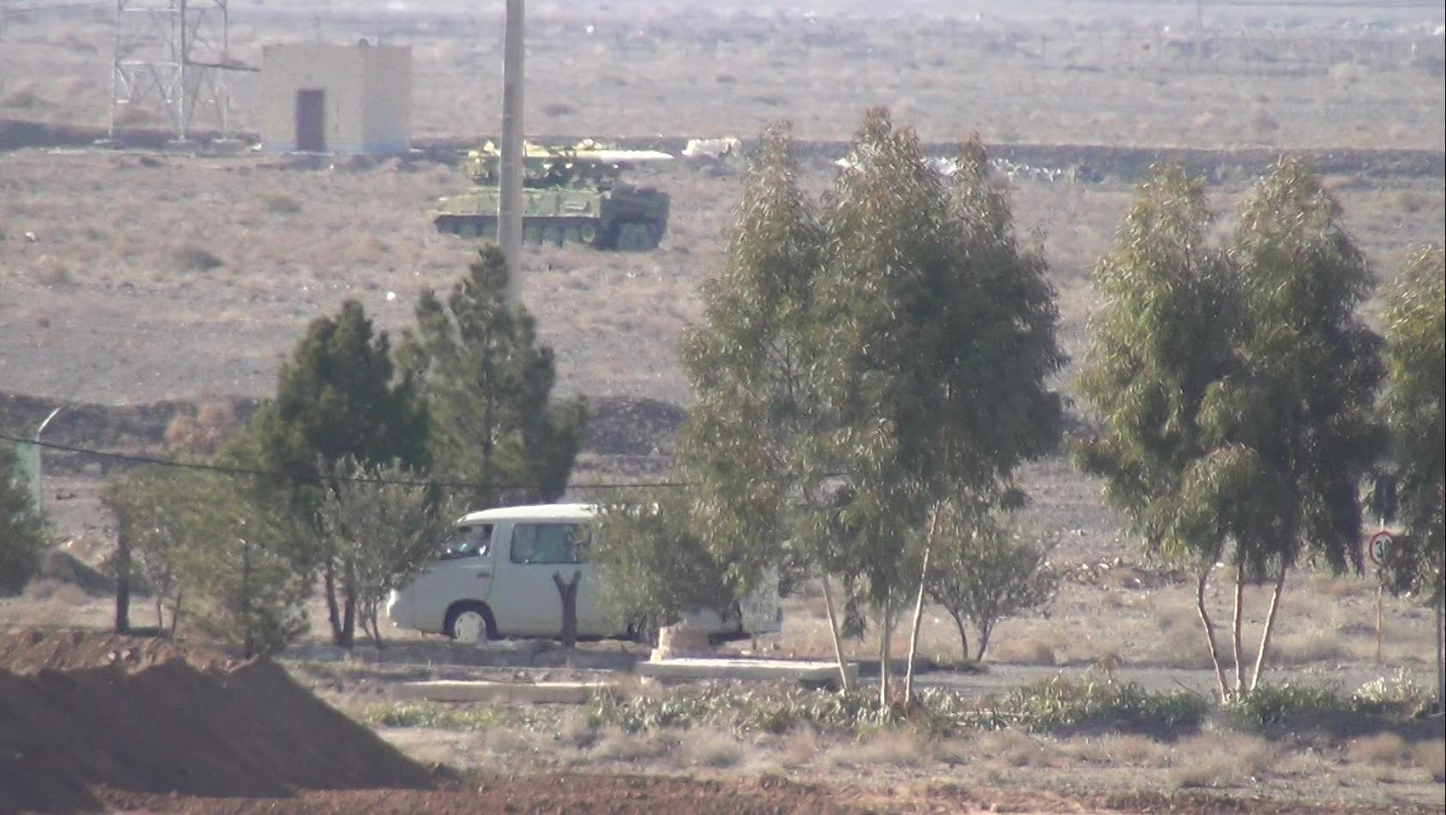armored_car: (426, 135, 683, 260)
